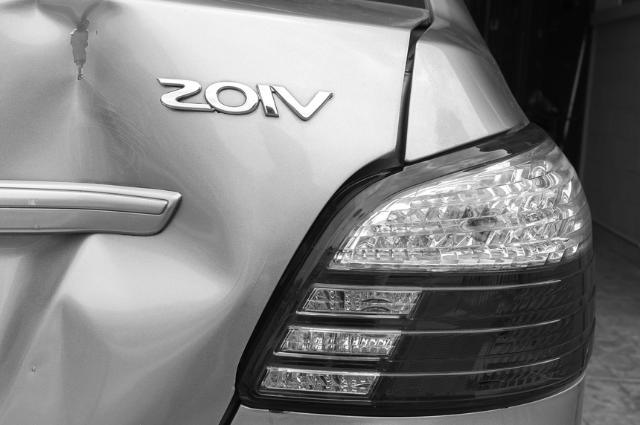Dickey: (0, 0, 337, 425)
